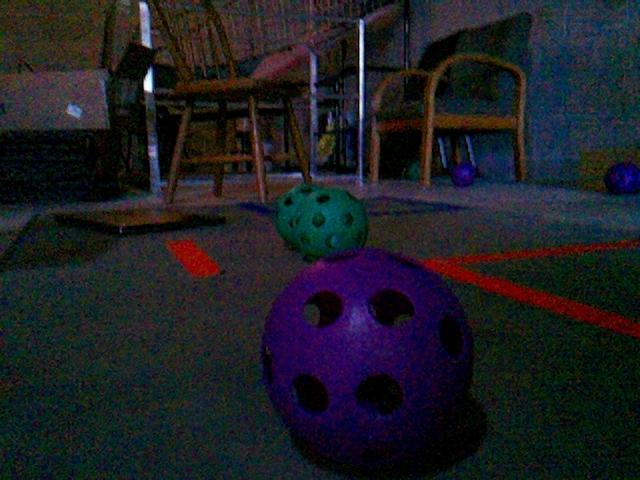Green: (292, 188, 369, 261), (277, 185, 318, 249), (403, 160, 421, 180)
Purple: (259, 249, 479, 471), (603, 161, 640, 195), (449, 160, 476, 186)
